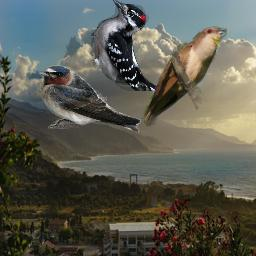Cuckoo: (140, 26, 227, 129)
Swallow: (37, 64, 142, 133)
Woodpecker: (91, 0, 168, 91)
